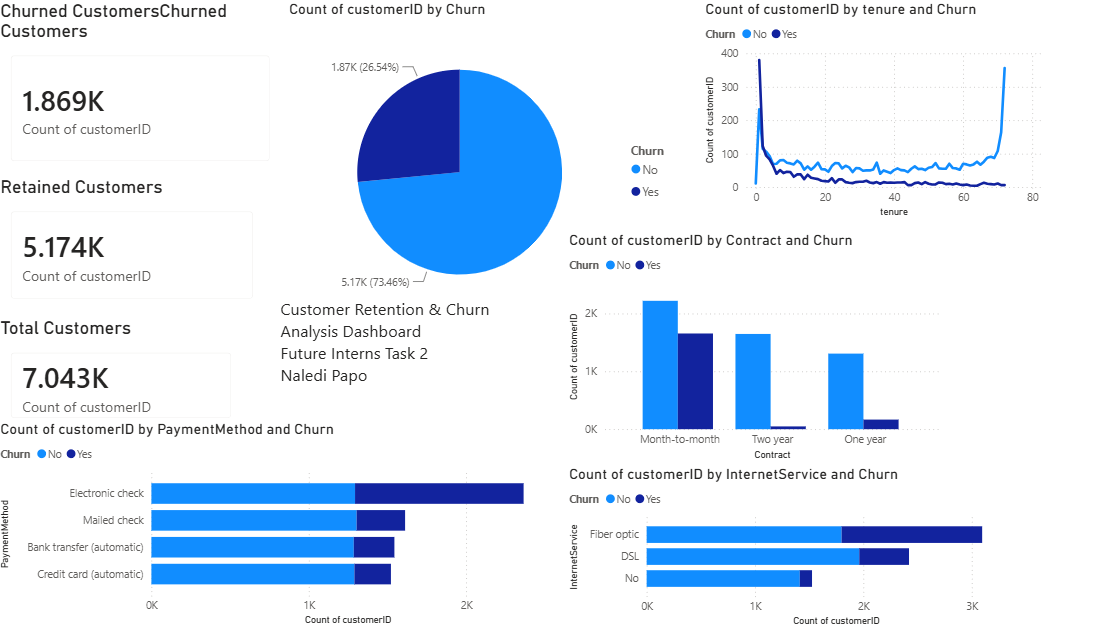

The dashboard page shown, as its layout file describes it:
{"tool":"powerbi","page":{"name":"Page 1","canvas":[1280,720],"ordinal":0},"visuals":[{"type":"barChart","fields":{"Category":["WA_Fn-UseC_-Telco-Customer-Churn.InternetService"],"Y":["CountNonNull(WA_Fn-UseC_-Telco-Customer-Churn.customerID)"],"Series":["WA_Fn-UseC_-Telco-Customer-Churn.Churn"]},"box":[650.4,531,539.3,189.4],"z":3},{"type":"pieChart","fields":{"Category":["Sheet 1.Churn"],"Y":["Count(Sheet 1.customerID)"]},"box":[330.7,0,458.3,374.6],"z":5},{"type":"clusteredColumnChart","fields":{"Category":["Sheet 1.Contract"],"Y":["CountNonNull(Sheet 1.customerID)"],"Series":["Sheet 1.Churn"]},"box":[650.4,264.8,433.6,266.2],"z":6},{"type":"lineChart","fields":{"Category":["Sheet 1.tenure"],"Y":["CountNonNull(Sheet 1.customerID)"],"Series":["Sheet 1.Churn"]},"box":[805.5,0,393.8,253.9],"z":8},{"type":"cardVisual","title":"Total Customers","fields":{"Data":["Count(Sheet 1.customerID)"]},"box":[0,362.3,286.8,133.1],"z":9},{"type":"cardVisual","title":"Churned CustomersChurned Customers","fields":{"Data":["Count(Sheet 1.customerID)"]},"box":[0,0,330.7,201.7],"z":10},{"type":"cardVisual","title":"Retained Customers","fields":{"Data":["Count(Sheet 1.customerID)"]},"box":[0,201.7,311.5,157.8],"z":11},{"type":"barChart","fields":{"Category":["Sheet 1.PaymentMethod"],"Y":["CountNonNull(Sheet 1.customerID)"],"Series":["Sheet 1.Churn"]},"box":[0,480.3,639.5,240.1],"z":12},{"type":"textbox","box":[319.7,336.2,303.3,123.5],"z":13}]}

Visuals, with their boxes in screenshot pixels (x1, y1, x2, y2), scaled from the page's 1280x720 canvas onto the 1102x625 screenshot:
barChart - WA_Fn-UseC_-Telco-Customer-Churn.InternetService x CountNonNull(WA_Fn-UseC_-Telco-Customer-Churn.customerID): [left=560, top=461, right=1024, bottom=624]
pieChart - Sheet 1.Churn x Count(Sheet 1.customerID): [left=285, top=0, right=679, bottom=325]
clusteredColumnChart - Sheet 1.Contract x CountNonNull(Sheet 1.customerID): [left=560, top=230, right=933, bottom=461]
lineChart - Sheet 1.tenure x CountNonNull(Sheet 1.customerID): [left=693, top=0, right=1033, bottom=220]
"Total Customers" cardVisual: [left=0, top=314, right=247, bottom=430]
"Churned CustomersChurned Customers" cardVisual: [left=0, top=0, right=285, bottom=175]
"Retained Customers" cardVisual: [left=0, top=175, right=268, bottom=312]
barChart - Sheet 1.PaymentMethod x CountNonNull(Sheet 1.customerID): [left=0, top=417, right=551, bottom=624]
textbox: [left=275, top=292, right=536, bottom=399]
